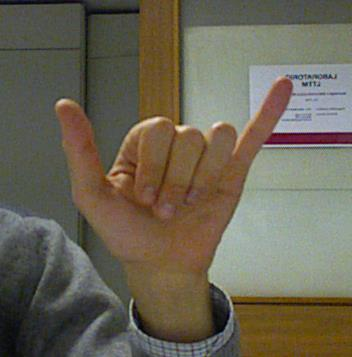clockwise: (54, 72, 295, 274)
